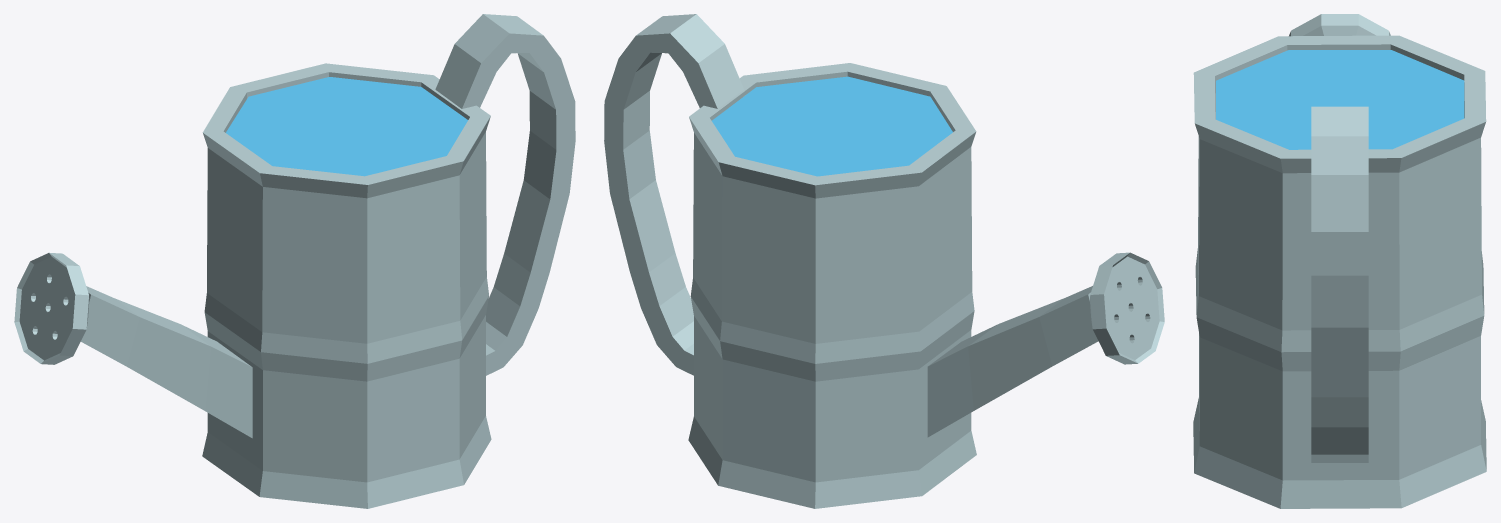
Rendered from Watering Can.fbx.
3 renders of one model, left to right at view 1: azimuth 30°, elevation 25°; view 2: azimuth 150°, elevation 25°; view 3: azimuth 270°, elevation 25°, orthographic. The views are drawn at different scales.
Parts seen in each view (by area): view 1: Cylinder, Cube.001, water, Cube, Cylinder.001; view 2: Cylinder, Cube.001, water, Cube, Cylinder.001; view 3: Cylinder, Cube.001, water, Cylinder.001.
Boxes of the visible parts, bbox=[...] form: Cylinder: bbox=[202, 63, 491, 508]; Cube.001: bbox=[435, 14, 575, 375]; water: bbox=[226, 77, 467, 176]; Cube: bbox=[81, 286, 252, 438]; Cylinder.001: bbox=[14, 252, 89, 364]; Cylinder: bbox=[688, 63, 976, 508]; Cube.001: bbox=[604, 14, 743, 375]; water: bbox=[712, 76, 952, 176]; Cube: bbox=[927, 286, 1098, 437]; Cylinder.001: bbox=[1090, 252, 1164, 364]; Cylinder: bbox=[1193, 35, 1486, 508]; Cube.001: bbox=[1311, 106, 1368, 462]; water: bbox=[1216, 50, 1464, 149]; Cylinder.001: bbox=[1289, 14, 1390, 36].
Size of the model in its own units: 366 by 256 by 162.
